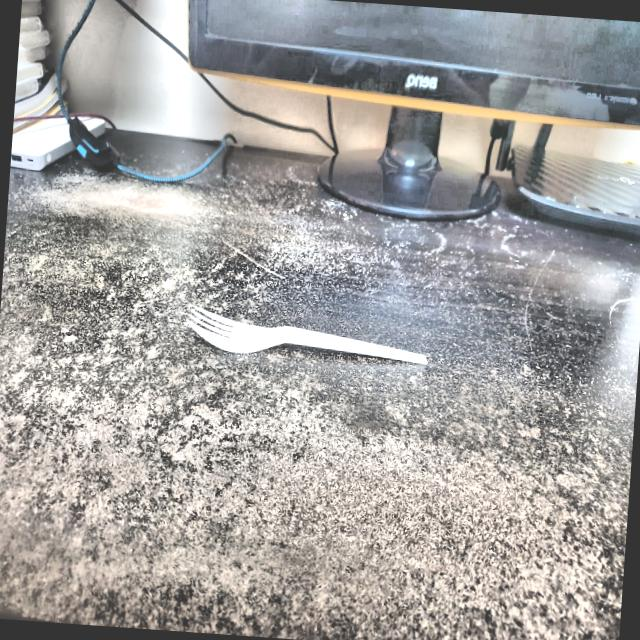plastic utensil: (181, 302, 442, 379)
